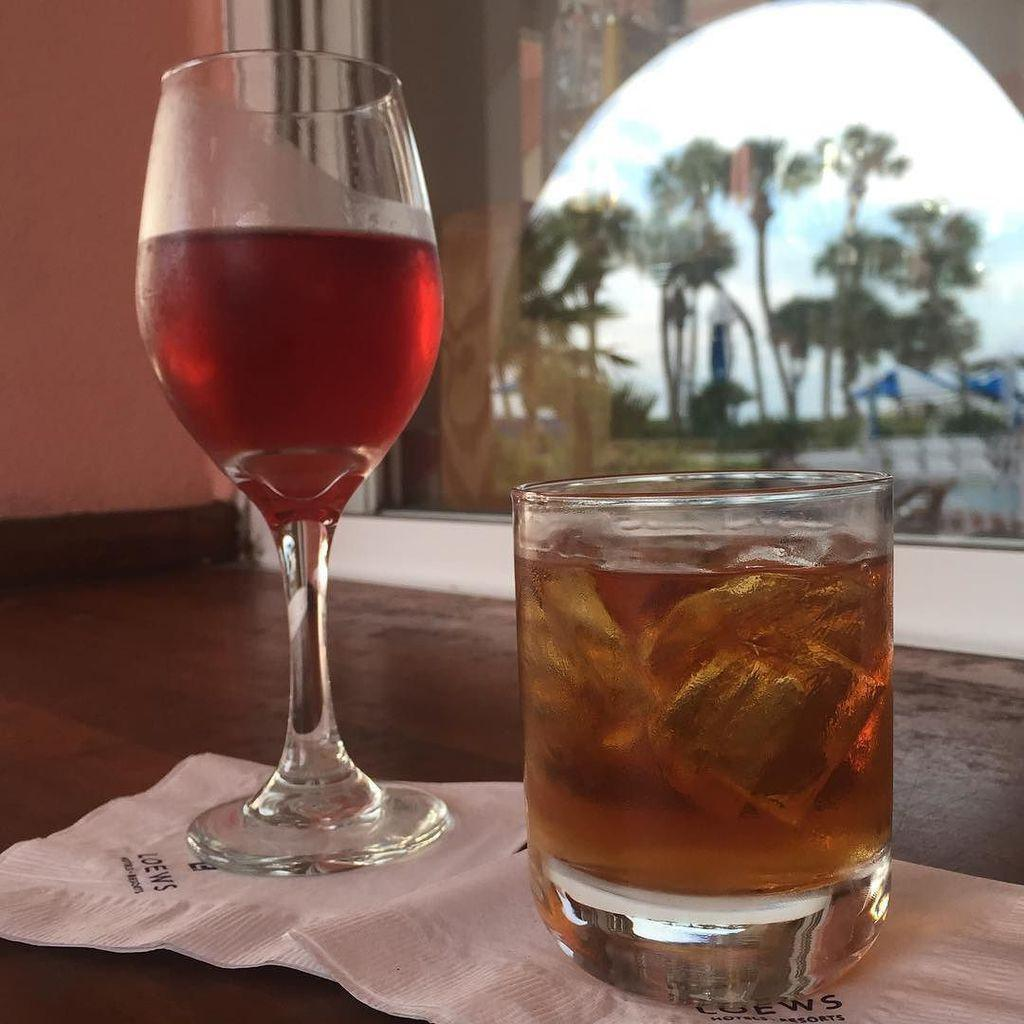glass-normal: (499, 462, 901, 988)
glass-wine: (136, 50, 451, 867)
